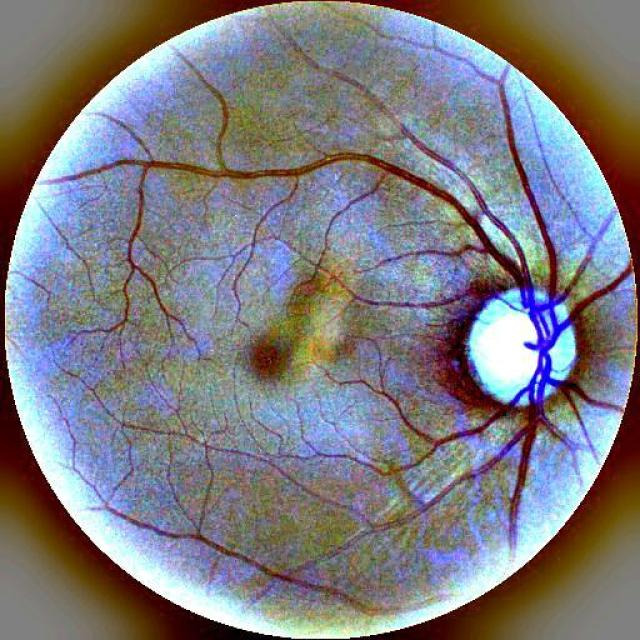Macula: (251, 339, 281, 376)
Nerves: (510, 371, 546, 550), (522, 280, 545, 334), (539, 350, 549, 369)
Optic Disk: (465, 288, 575, 405)
